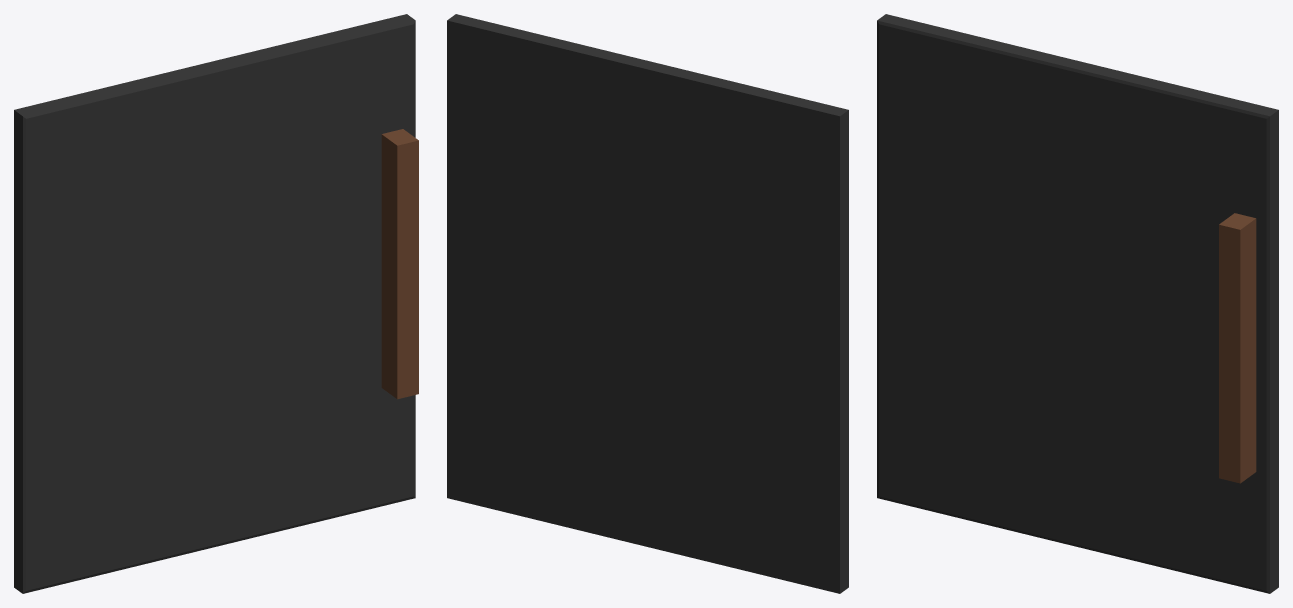
File: shelf_door_2.glb
3 renders of one model, left to right at view 1: azimuth 30°, elevation 25°; view 2: azimuth 150°, elevation 25°; view 3: azimuth 330°, elevation 25°, orthographic.
Parts seen in each view (by area): view 1: Expositor Door 1; view 2: Expositor Door 1; view 3: Expositor Door 1.
Part boxes in pixels (x1,y1,x2,y2): Expositor Door 1: (14, 14, 418, 593); Expositor Door 1: (447, 14, 848, 593); Expositor Door 1: (877, 14, 1278, 593).
Size of the model in its own units: 0.662 by 0.7689 by 0.0736.
Materials: 1 (1 with a texture image).
